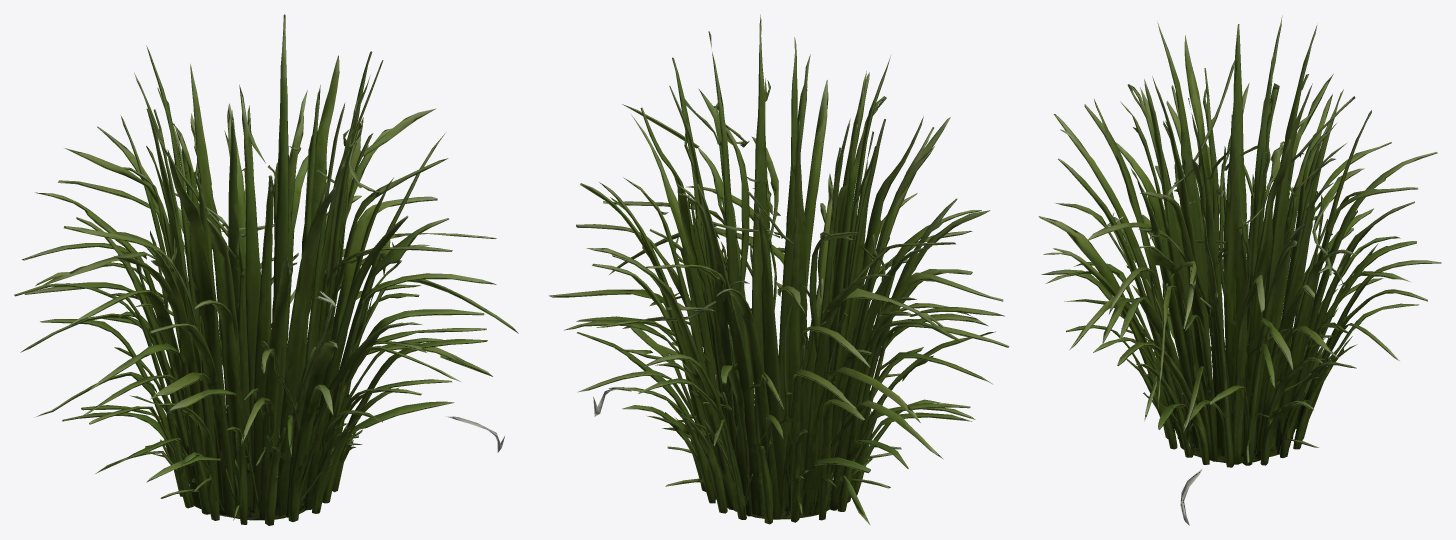
File: grass-tall-clump.glb
3 renders of one model, left to right at view 1: azimuth 30°, elevation 25°; view 2: azimuth 150°, elevation 25°; view 3: azimuth 270°, elevation 25°, orthographic. The views are drawn at different scales.
Parts seen in each view (by area): view 1: tripo_node_718c998a-eca9-46cc-a5df-19d4607c5034; view 2: tripo_node_718c998a-eca9-46cc-a5df-19d4607c5034; view 3: tripo_node_718c998a-eca9-46cc-a5df-19d4607c5034.
Part boxes in pixels (x1,y1,x2,y2): tripo_node_718c998a-eca9-46cc-a5df-19d4607c5034: [14, 14, 518, 525]; tripo_node_718c998a-eca9-46cc-a5df-19d4607c5034: [549, 14, 1009, 525]; tripo_node_718c998a-eca9-46cc-a5df-19d4607c5034: [1038, 15, 1441, 525].
Bounding box in the file's own units: 0.6174 × 0.6 × 0.5572.
Materials: 1 (1 with a texture image).
